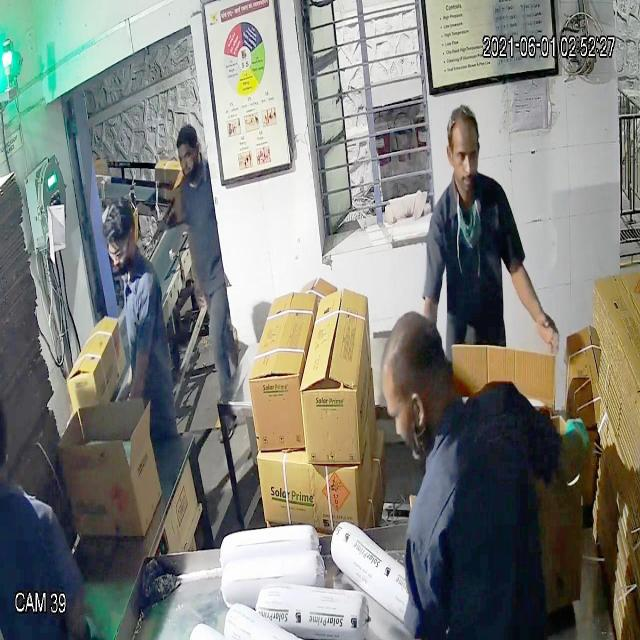glasses: (100, 232, 142, 270)
no-glass: (442, 135, 482, 173)
